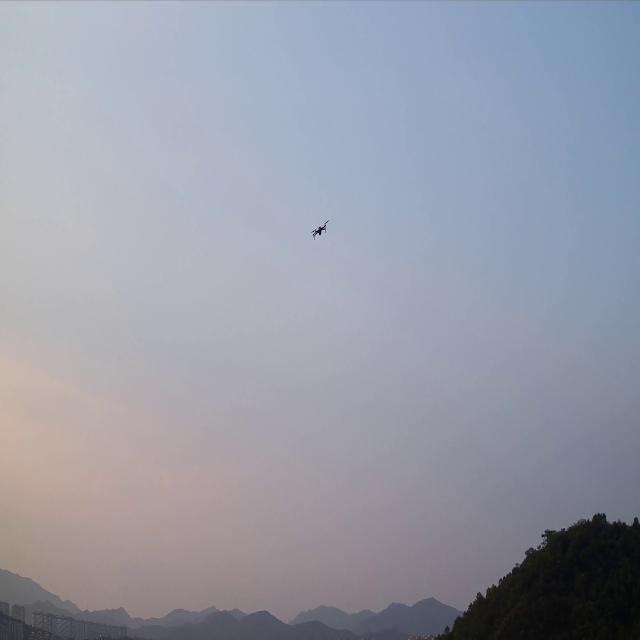UAV: (311, 217, 329, 240)
